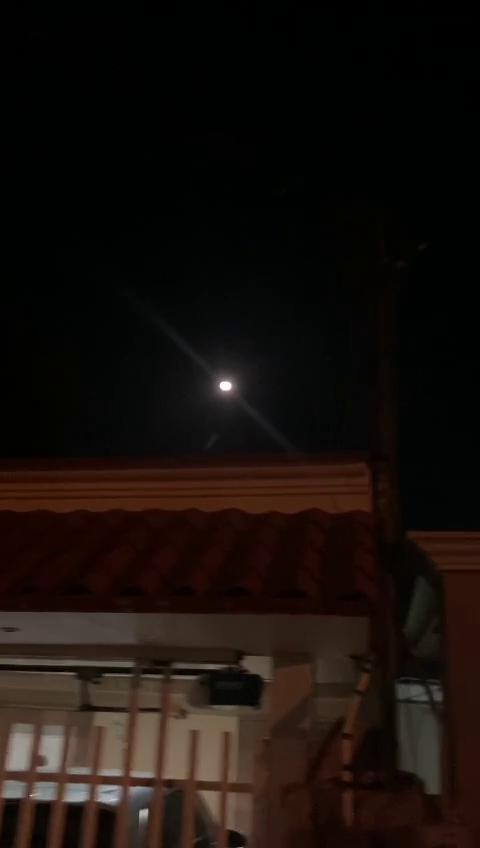moon: (217, 374, 235, 398)
